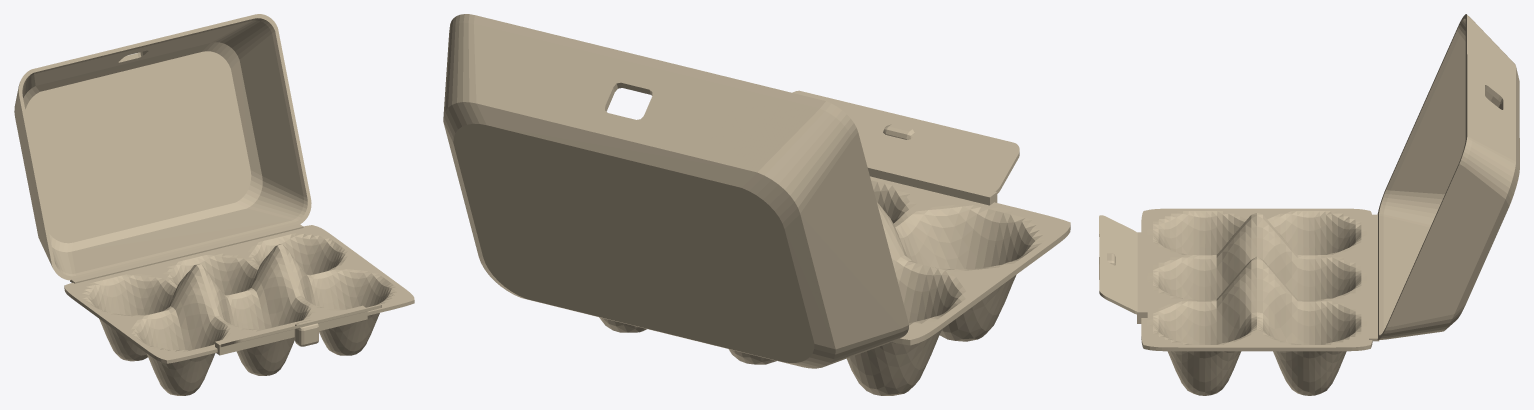
The picture shows the model from 3 angles, left to right: view 1: azimuth 30°, elevation 25°; view 2: azimuth 150°, elevation 25°; view 3: azimuth 270°, elevation 25°; orthographic projection. The views are drawn at different scales.
Visible parts, largest first — view 1: Hollow hinged lid with catch opening, Six well molded body with full underside, Front living hinge fold, Rear living hinge fold, Front folding closure flap, Raised closure catch; view 2: Hollow hinged lid with catch opening, Six well molded body with full underside, Front folding closure flap, Front living hinge fold; view 3: Six well molded body with full underside, Hollow hinged lid with catch opening, Front folding closure flap, Rear living hinge fold, Front living hinge fold.
Boxes of the visible parts, x1,y1,x2,y2 form: Hollow hinged lid with catch opening: (14,14,311,280); Six well molded body with full underside: (64,225,414,395); Front living hinge fold: (215,305,367,355); Rear living hinge fold: (70,223,303,283); Front folding closure flap: (220,305,381,347); Raised closure catch: (294,320,318,346); Hollow hinged lid with catch opening: (443,14,908,368); Six well molded body with full underside: (599,176,1070,395); Front folding closure flap: (792,90,1019,193); Front living hinge fold: (866,160,997,205); Six well molded body with full underside: (1141,208,1372,395); Hollow hinged lid with catch opening: (1377,14,1519,340); Front folding closure flap: (1099,215,1137,314); Rear living hinge fold: (1369,214,1379,341); Front living hinge fold: (1137,232,1147,323).
Bounding box in the file's own units: 0.158 × 0.1407 × 0.1997.
